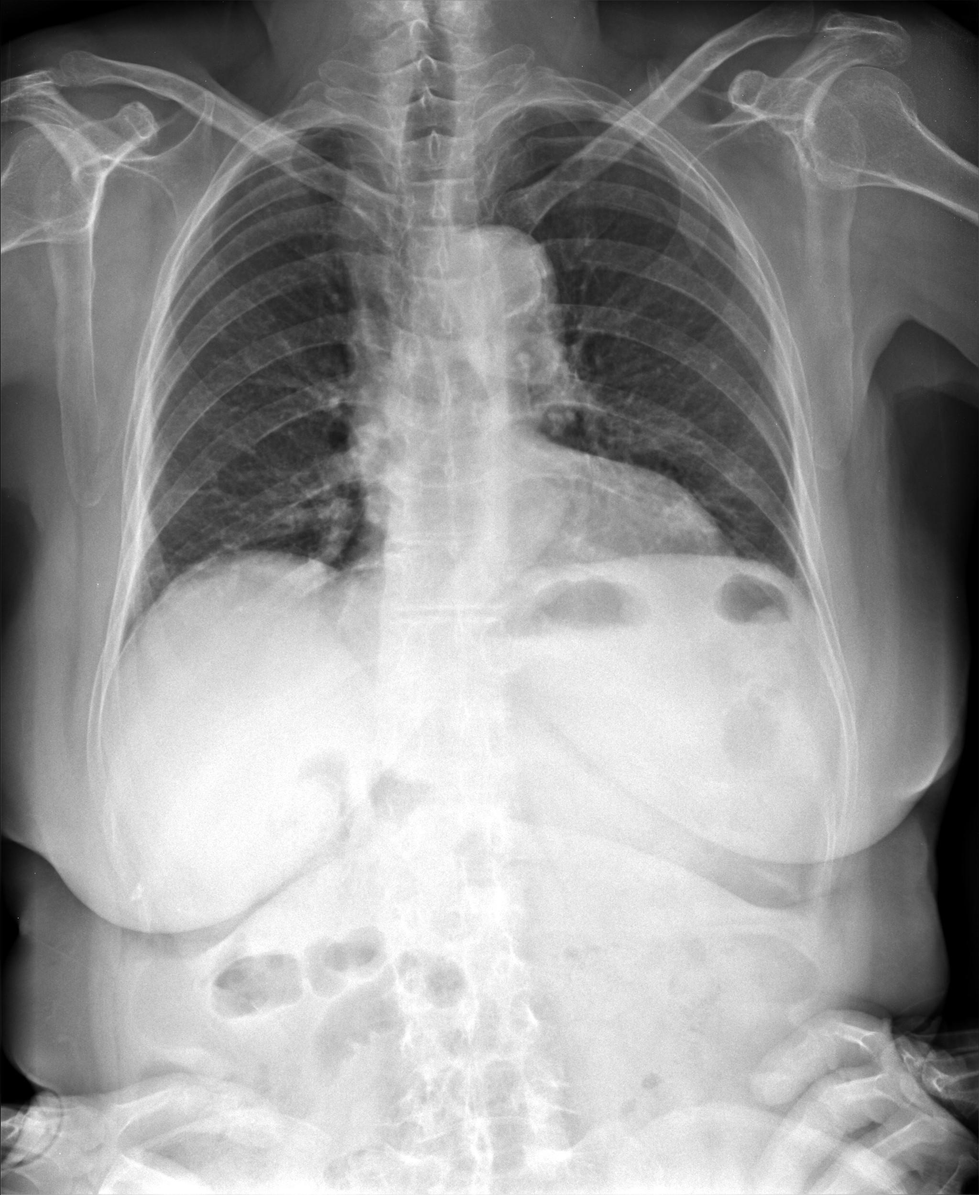Aortic enlargement: (441, 229, 561, 332)
